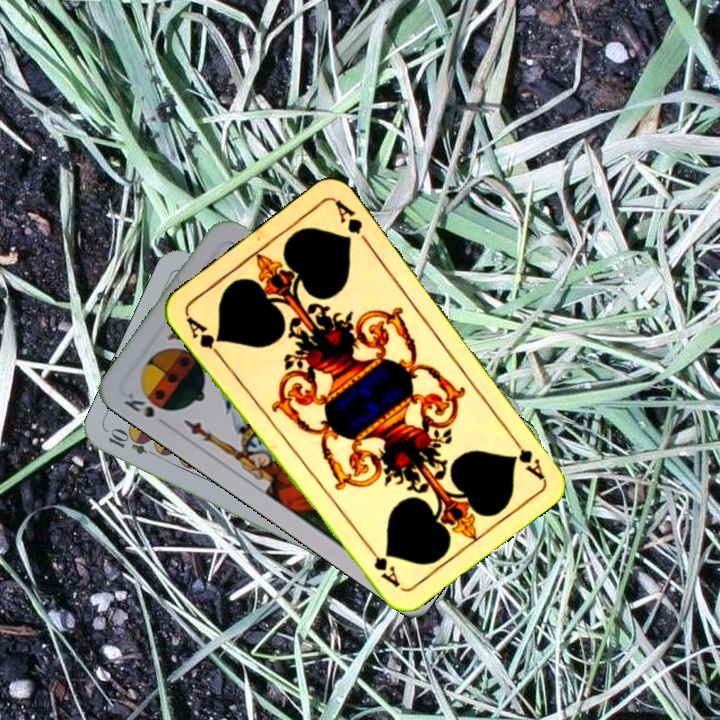E10: (104, 426, 162, 460)
GA: (505, 430, 548, 482), (182, 312, 225, 361)
SK: (119, 389, 157, 421)
